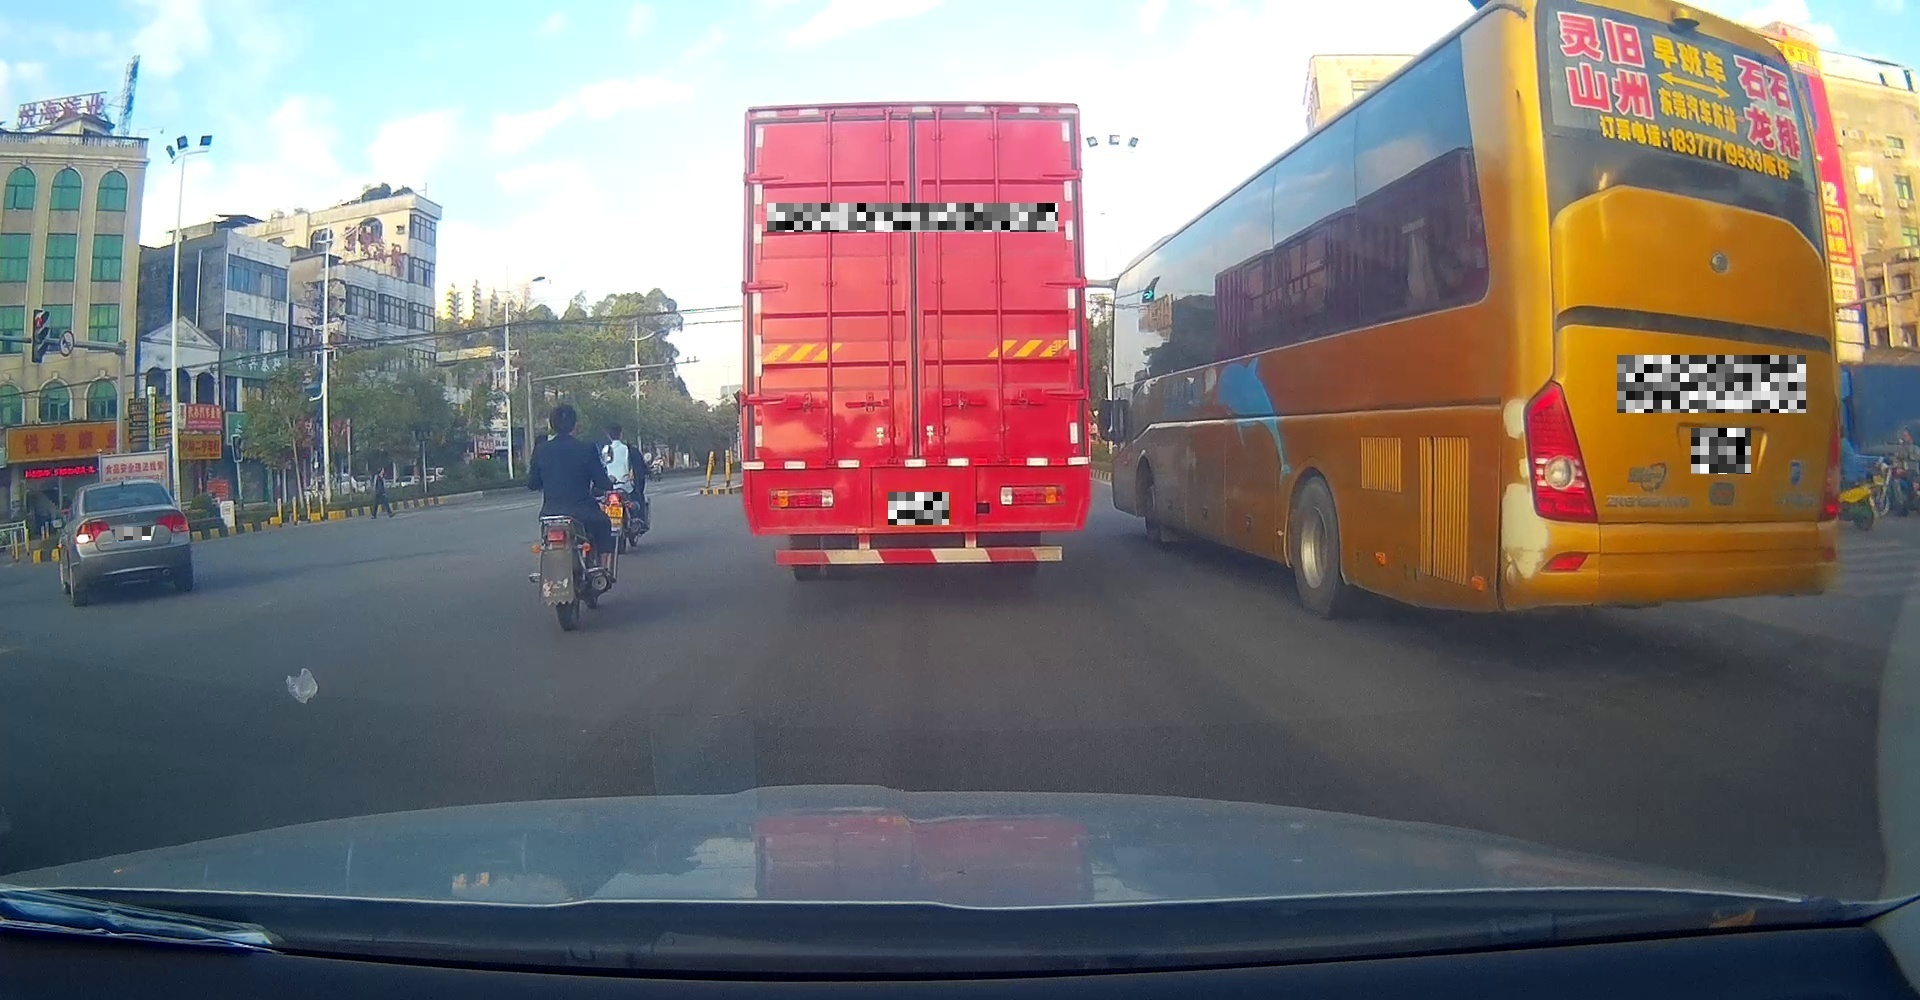L_light: (1520, 377, 1601, 525), (768, 489, 834, 510), (74, 518, 110, 544)
R_light: (1820, 426, 1840, 522), (999, 484, 1065, 508), (154, 511, 190, 533)
T_light: (1691, 188, 1736, 206), (886, 108, 935, 121), (116, 482, 131, 489)
day-left: (70, 478, 193, 607)
day-no: (1503, 0, 1841, 615), (735, 99, 1092, 582)
plate_1: (116, 527, 151, 541)
plate_2: (767, 203, 1058, 232)
plate_3: (888, 492, 949, 525)
plate_4: (1617, 355, 1806, 412)
plate_5: (1691, 428, 1751, 475)
